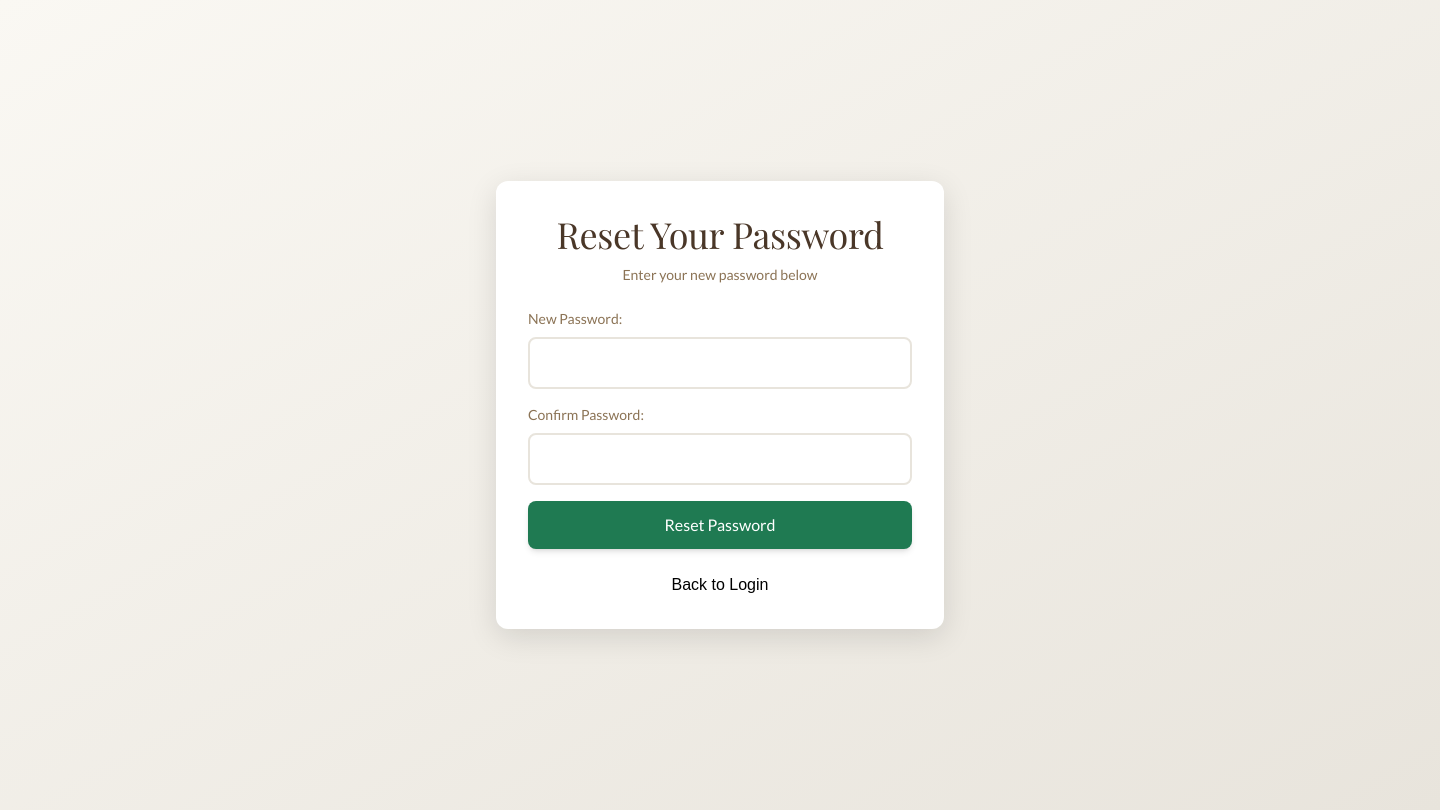
ResetPassword Component › Error Handling › shows error for invalid token
In the password field labelled "New Password:": (720, 363) [528,337,912,389], type "newpassword123"
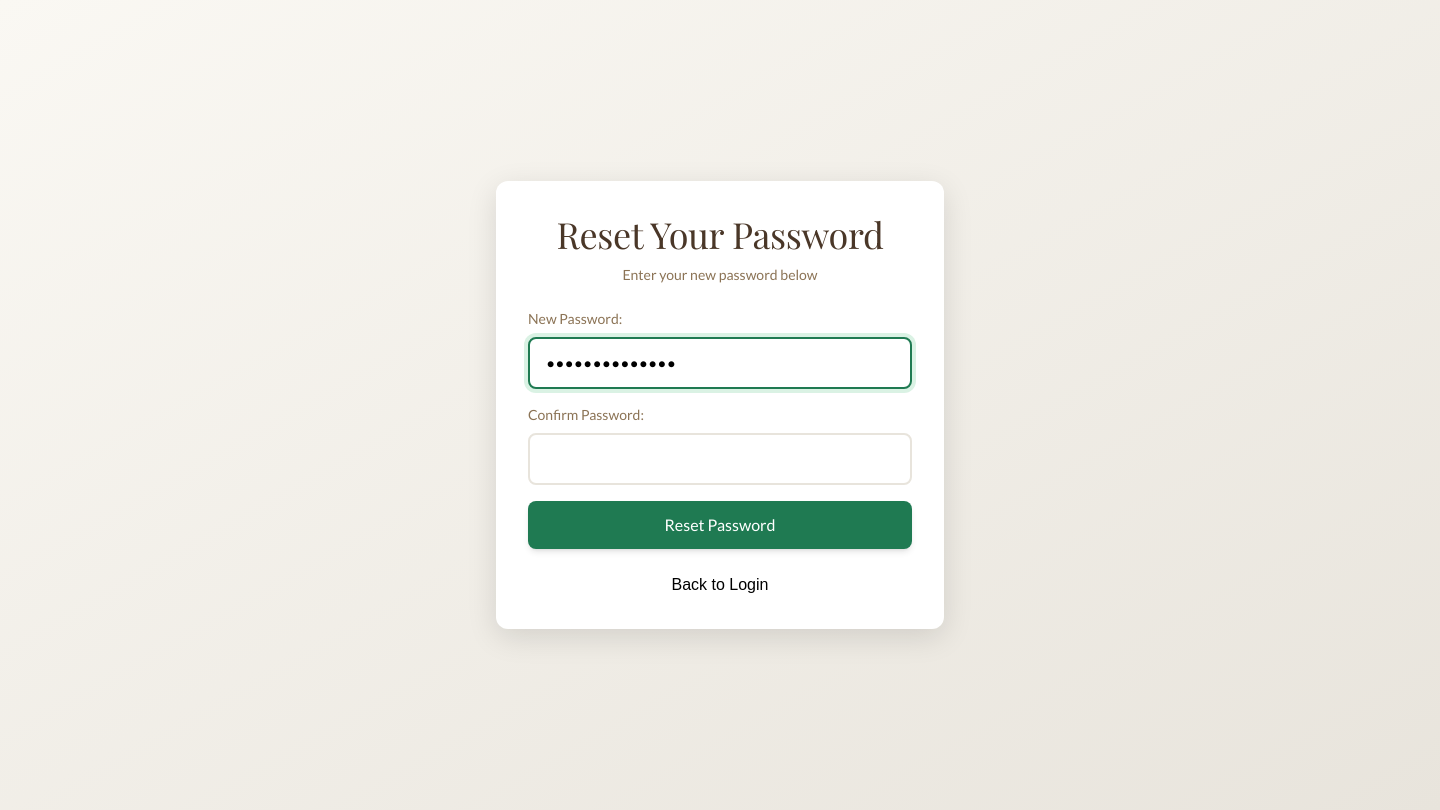
In the password field labelled "Confirm Password:": (720, 459) [528,433,912,485], type "newpassword123"
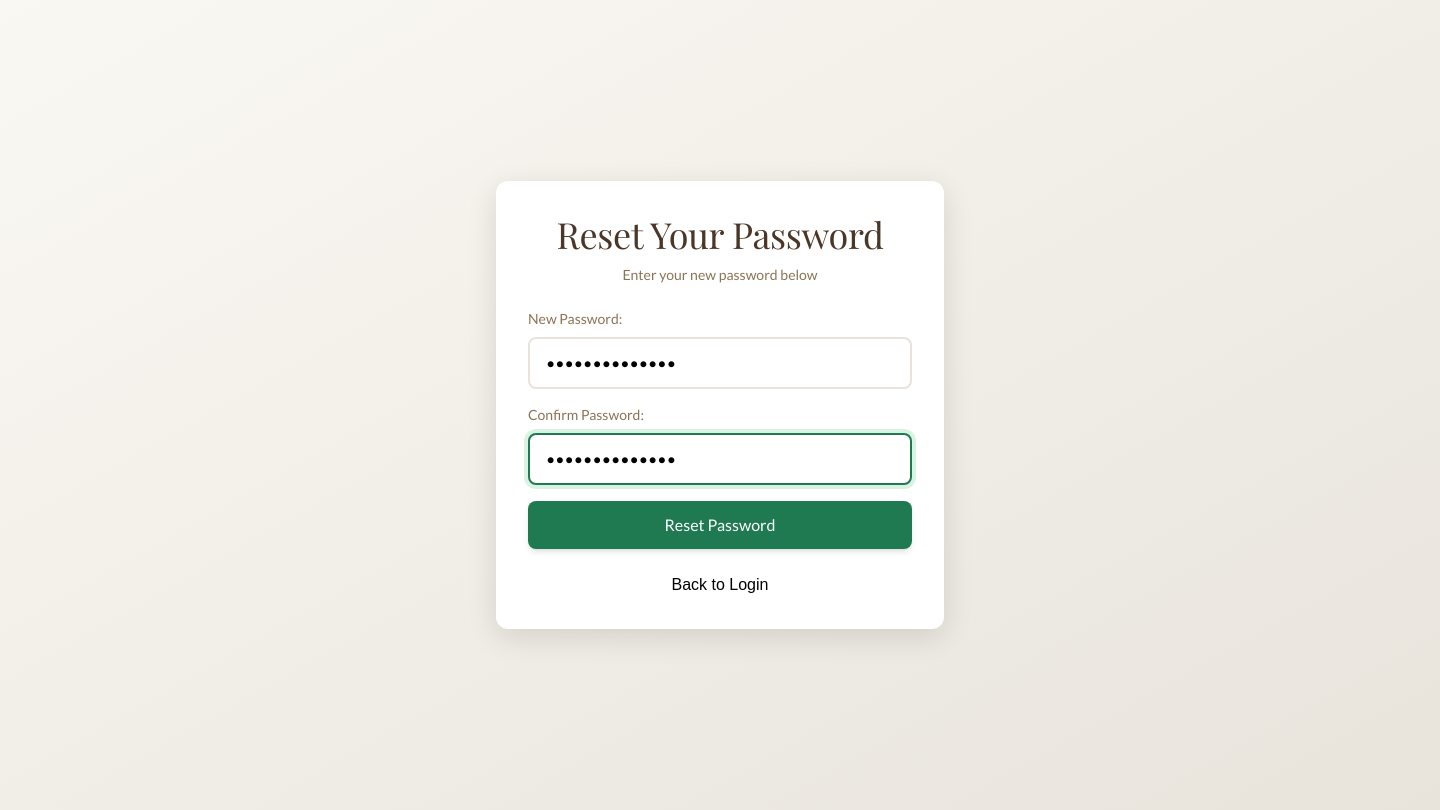
Click the button "Reset Password": (720, 525) [528,501,912,549]
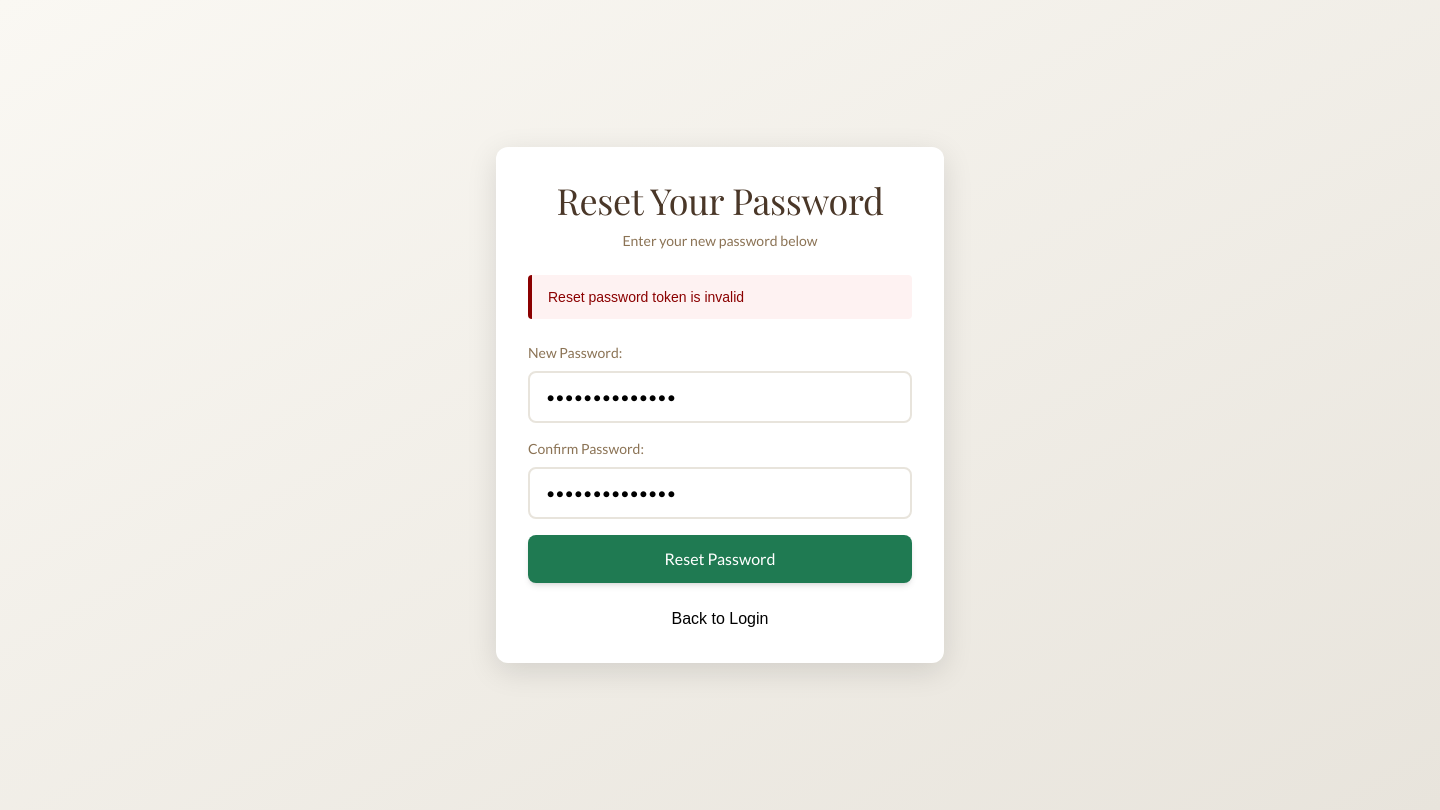
Expected: the text "Reset password token is invalid" is shown, [528,275,912,319]
